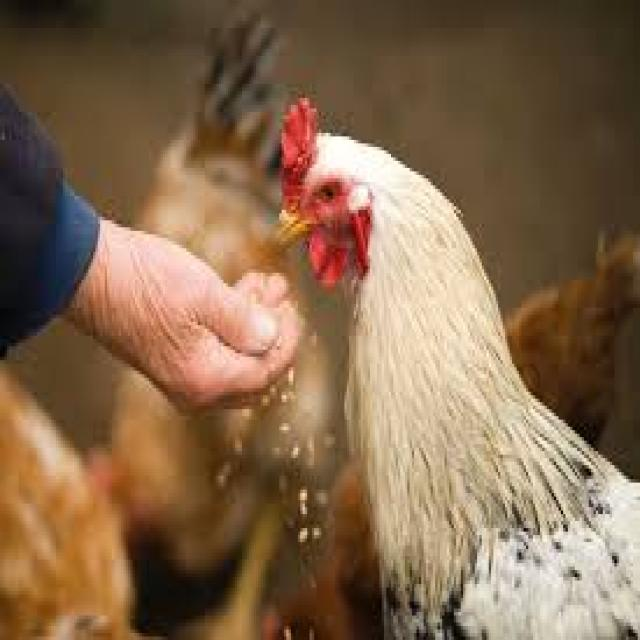Chicken: (268, 86, 632, 640)
